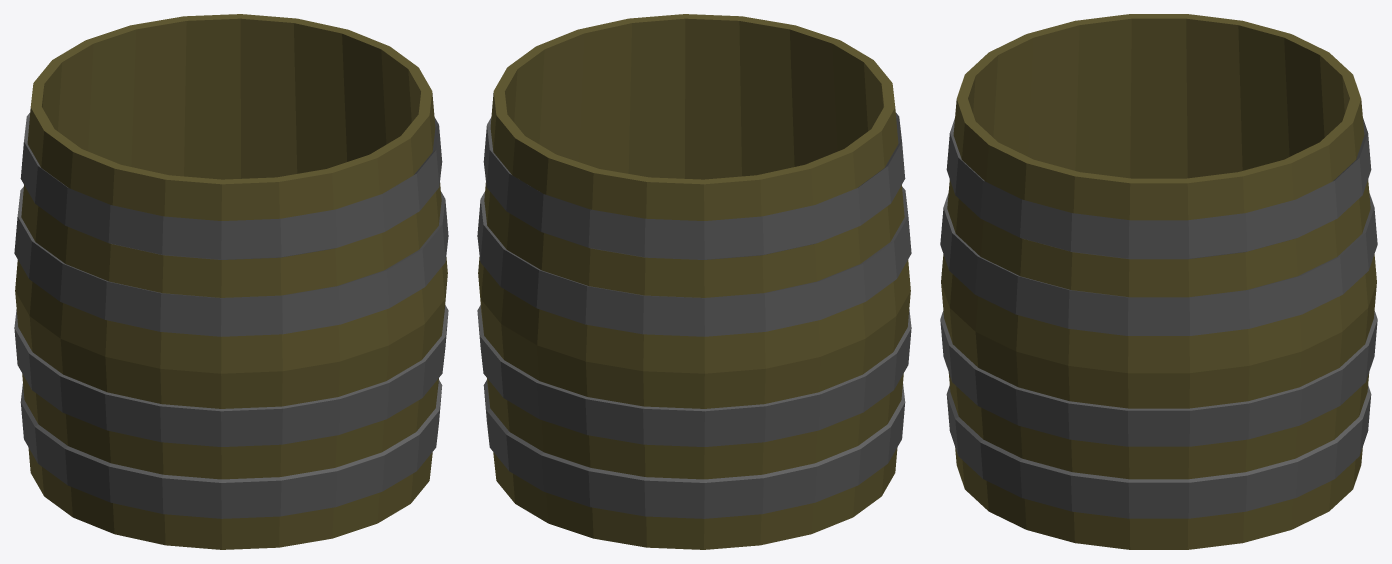
File: Barril_2.fbx
The picture shows the model from 3 angles, left to right: view 1: azimuth 30°, elevation 25°; view 2: azimuth 150°, elevation 25°; view 3: azimuth 270°, elevation 25°; orthographic projection.
Visible parts, largest first — view 1: Barril_2; view 2: Barril_2; view 3: Barril_2.
Part boxes in pixels (x1,y1,x2,y2): Barril_2: (14, 14, 448, 549); Barril_2: (477, 14, 911, 549); Barril_2: (940, 14, 1377, 549).
Bounding box in the file's own units: 214 × 200 × 216.
